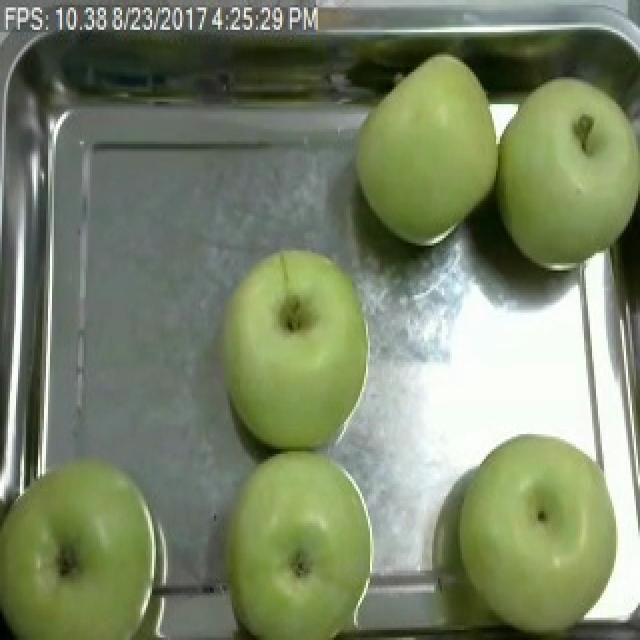50-_ripeness: (450, 419, 624, 640), (207, 242, 385, 450), (0, 434, 180, 638), (486, 67, 638, 298), (349, 41, 503, 255), (209, 460, 393, 627)
